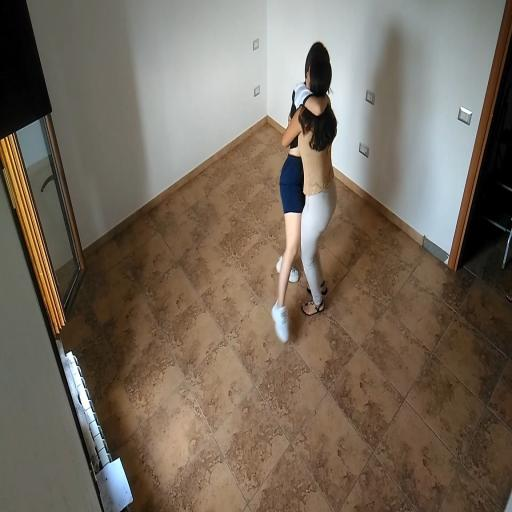nao-violencia: (266, 32, 341, 362)
